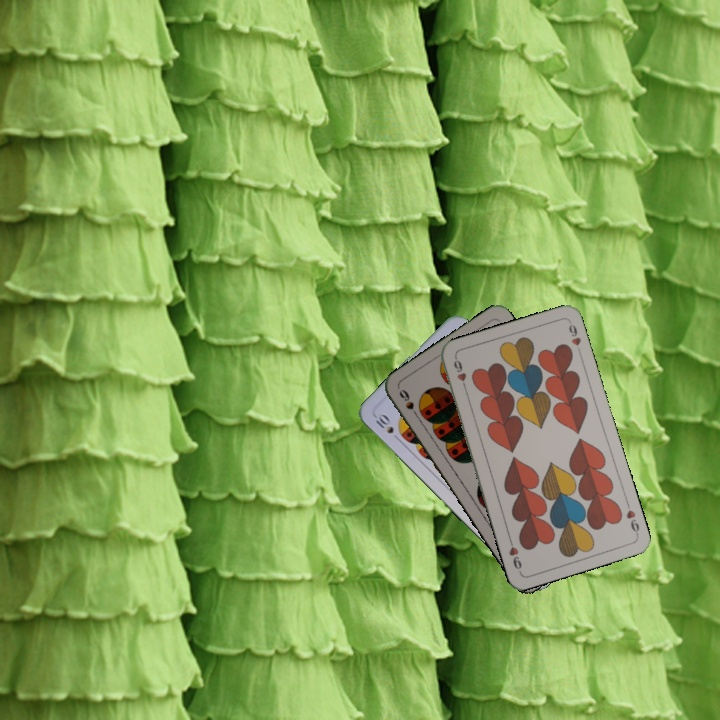H9: (449, 354, 470, 394), (622, 498, 642, 538)
S10: (371, 409, 403, 444)
S9: (395, 385, 422, 422)
